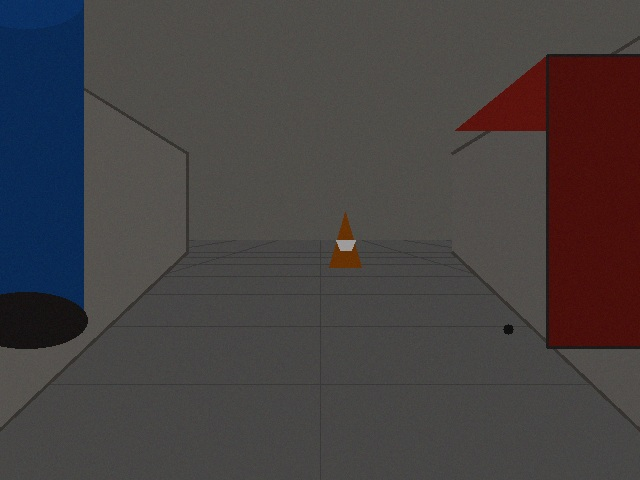cart: (455, 55, 639, 347)
obstacle: (329, 212, 361, 267)
person: (0, 0, 83, 320)
